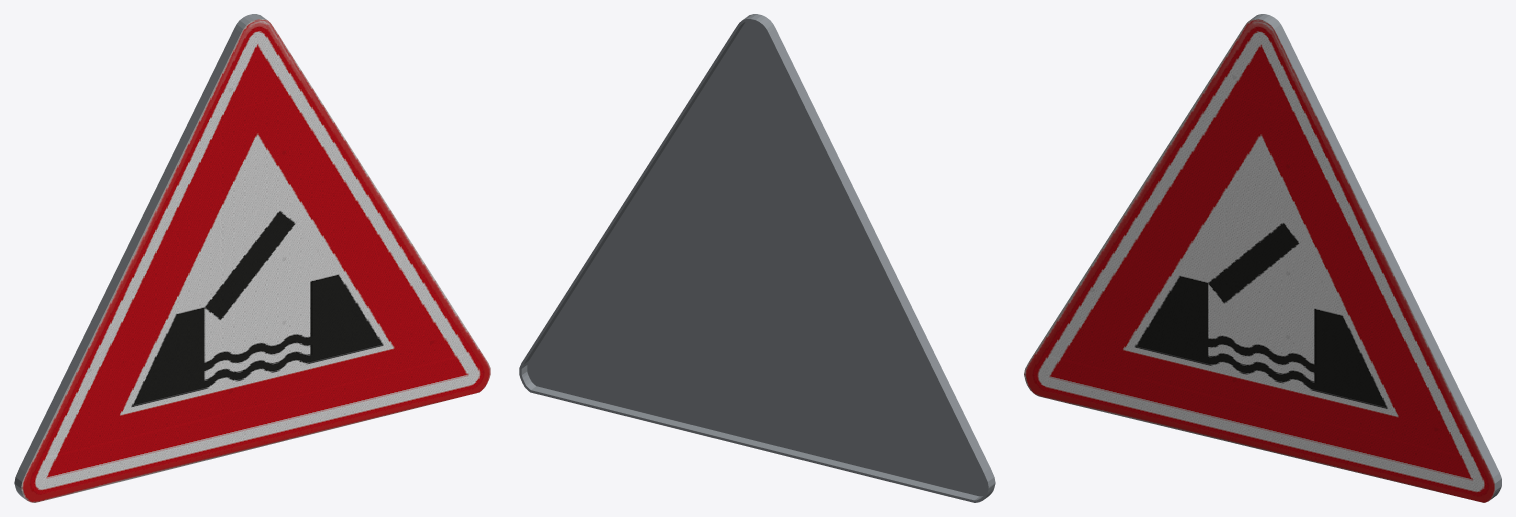
3 views of the same model, side by side, from view 1: azimuth 30°, elevation 25°; view 2: azimuth 150°, elevation 25°; view 3: azimuth 330°, elevation 25° (orthographic).
Visible parts, largest first — view 1: cat_d5809716b2ff5031; view 2: cat_d5809716b2ff5031; view 3: cat_d5809716b2ff5031.
Part boxes in pixels (x1,y1,x2,y2): cat_d5809716b2ff5031: (14, 14, 490, 502); cat_d5809716b2ff5031: (519, 14, 995, 502); cat_d5809716b2ff5031: (1024, 14, 1501, 502).
Bounding box in the file's own units: 0.6 × 0.015 × 0.5245.
2 materials, 1 textured.
